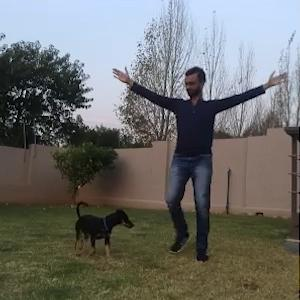takeoff: (114, 52, 285, 261)
